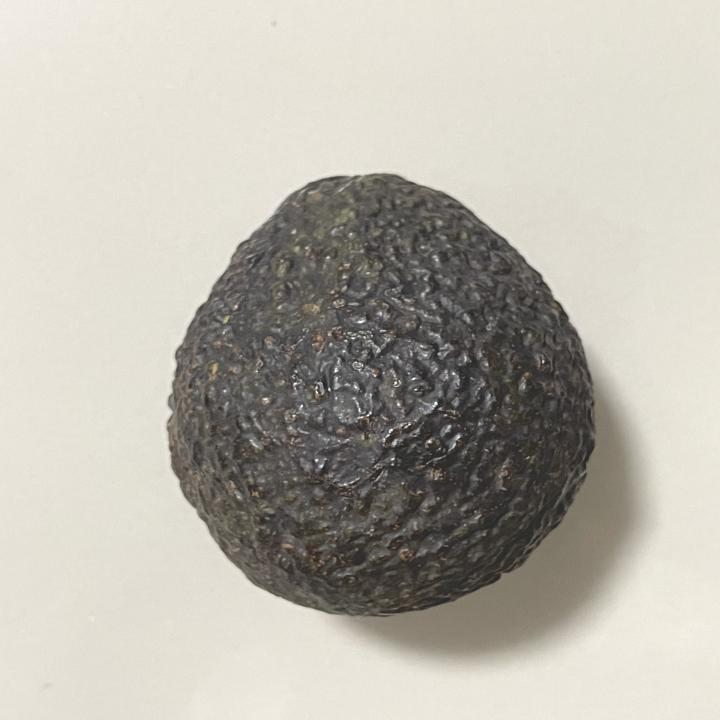Level1: (145, 159, 613, 636)
